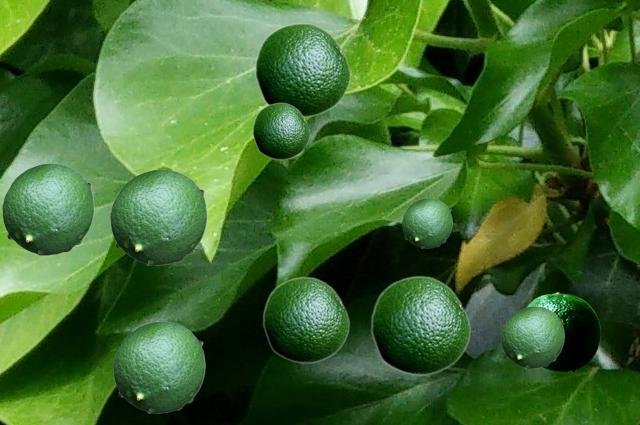calamansi: (370, 275, 470, 375), (110, 169, 206, 264), (254, 22, 350, 117), (2, 163, 93, 254), (113, 321, 204, 412), (262, 276, 349, 363), (527, 292, 599, 370), (501, 306, 563, 367), (252, 102, 309, 159), (402, 198, 451, 247)
